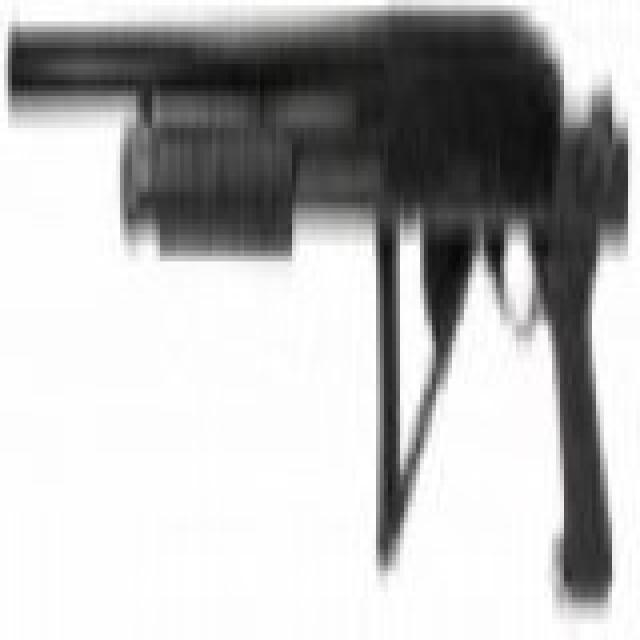Gun: (9, 8, 628, 606)
